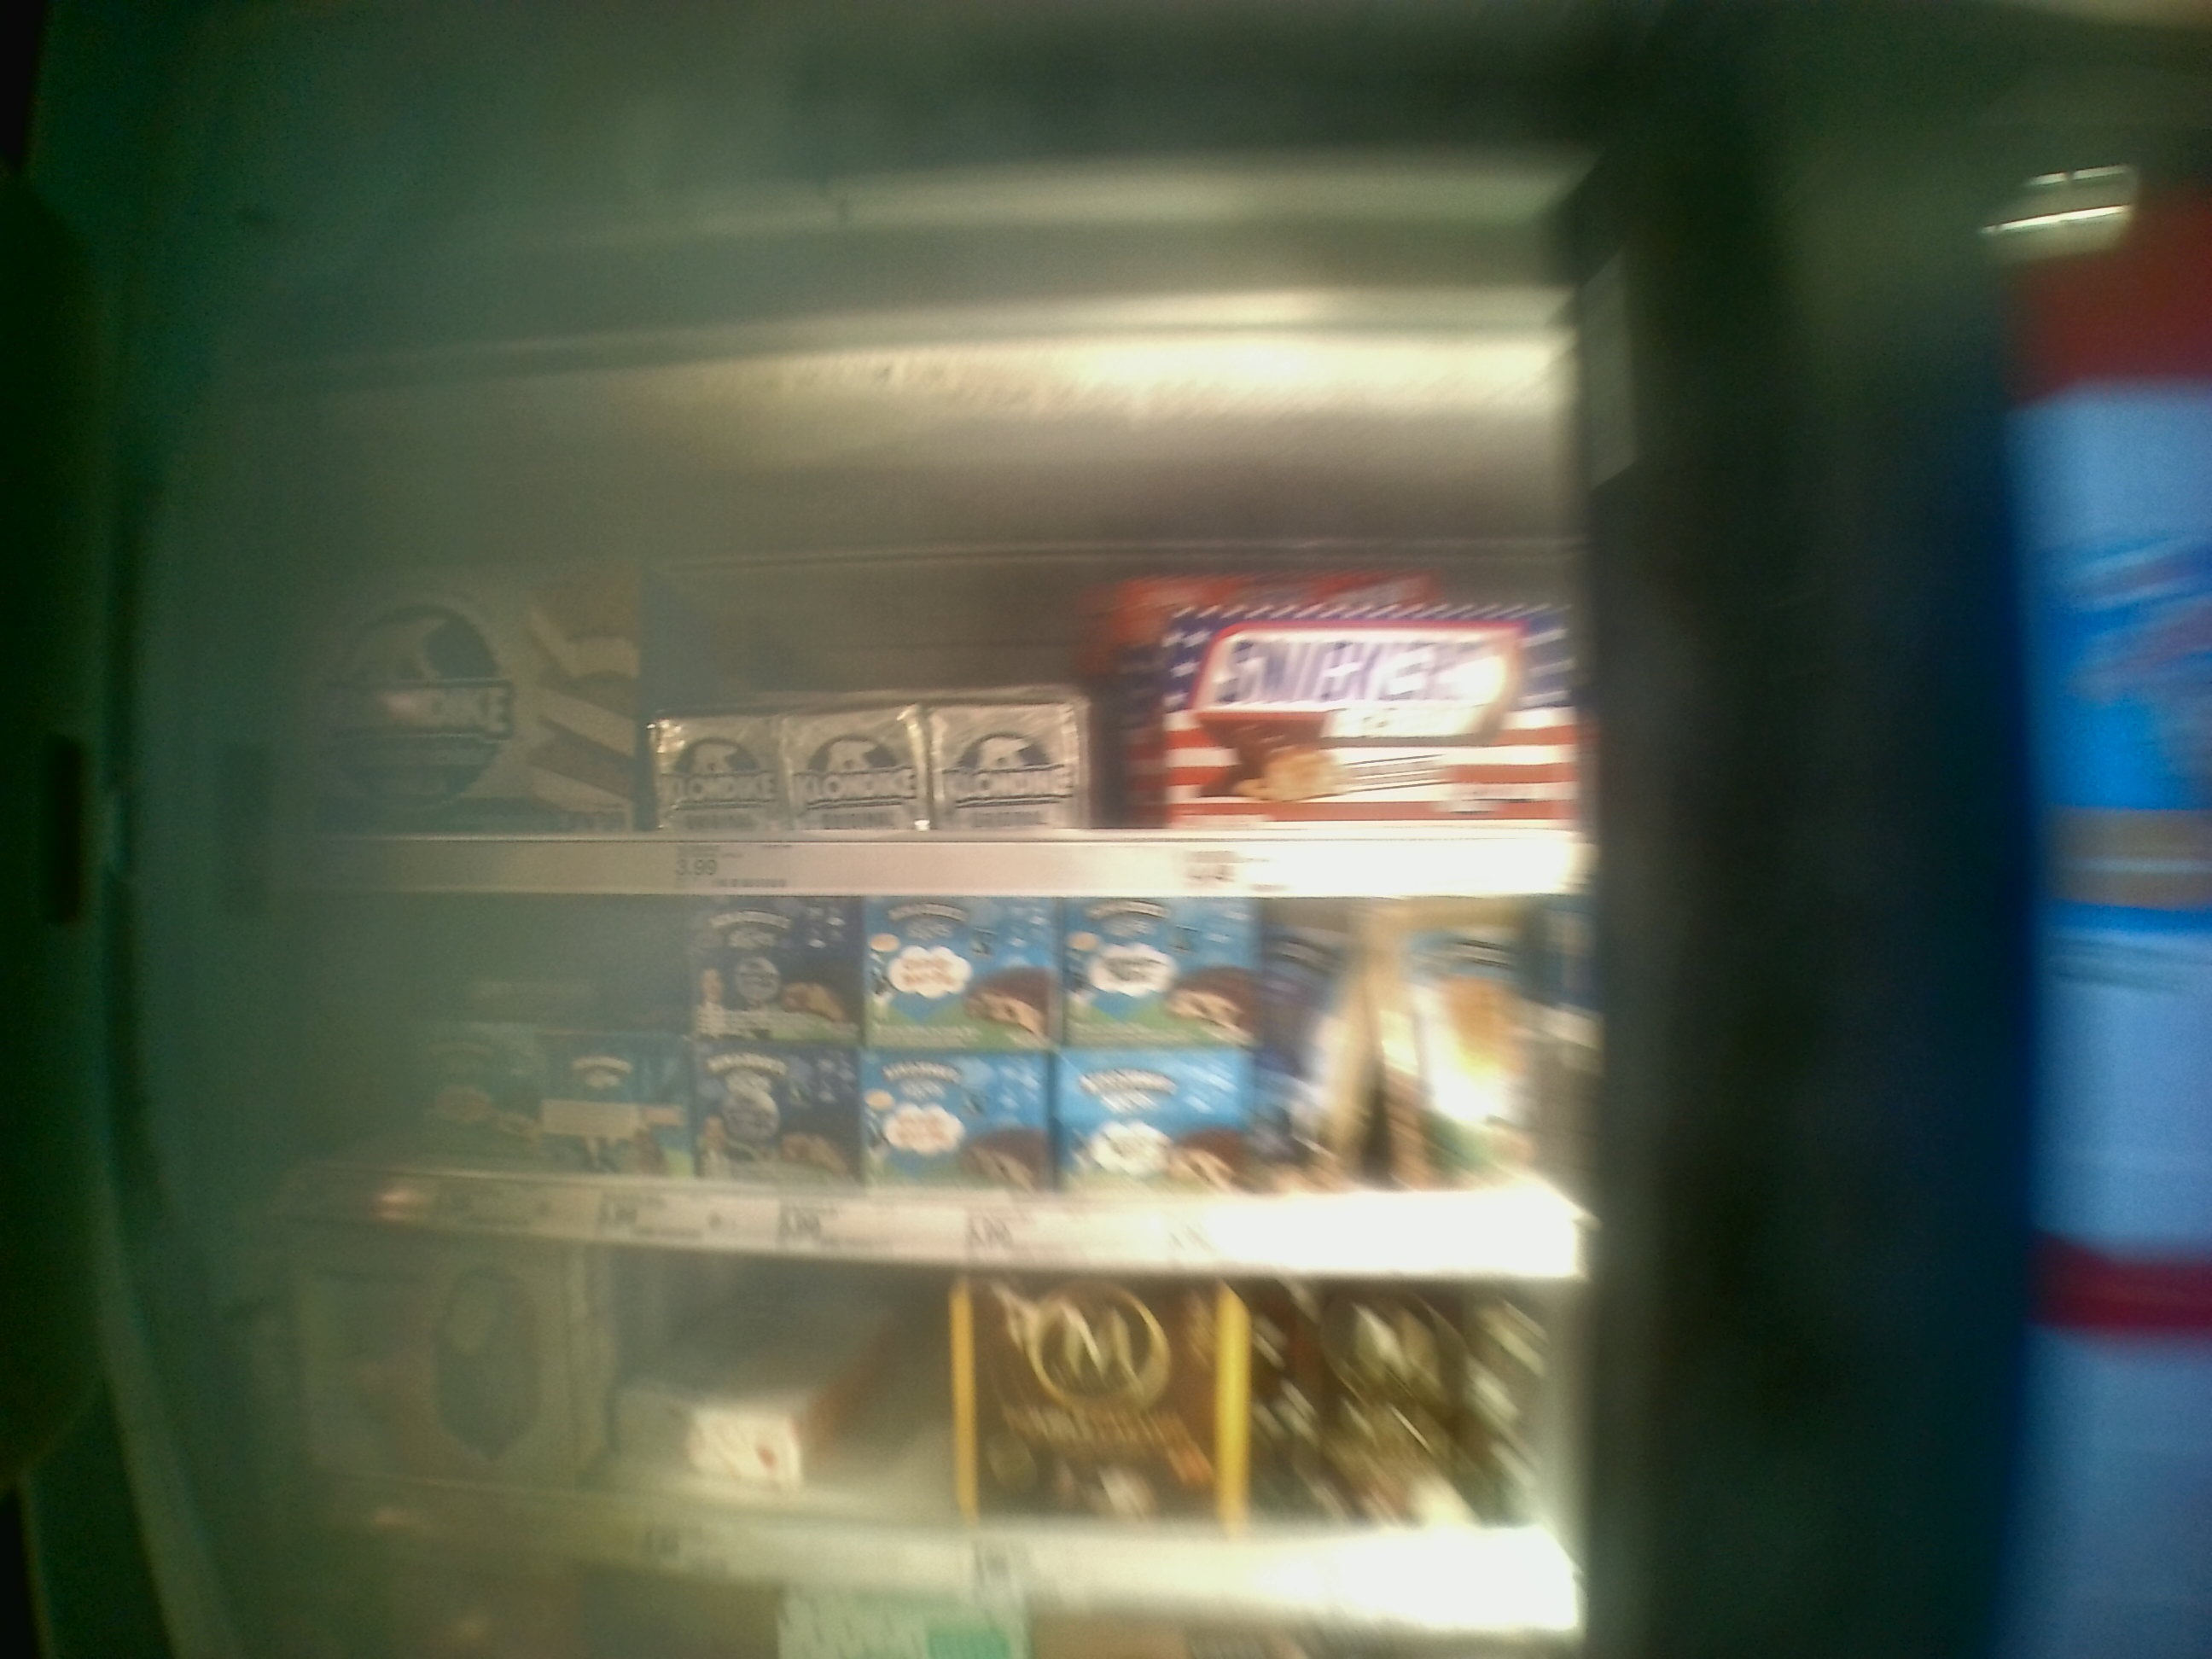ice-cream-shelf: (254, 453, 1599, 894), (246, 897, 1604, 1274)
